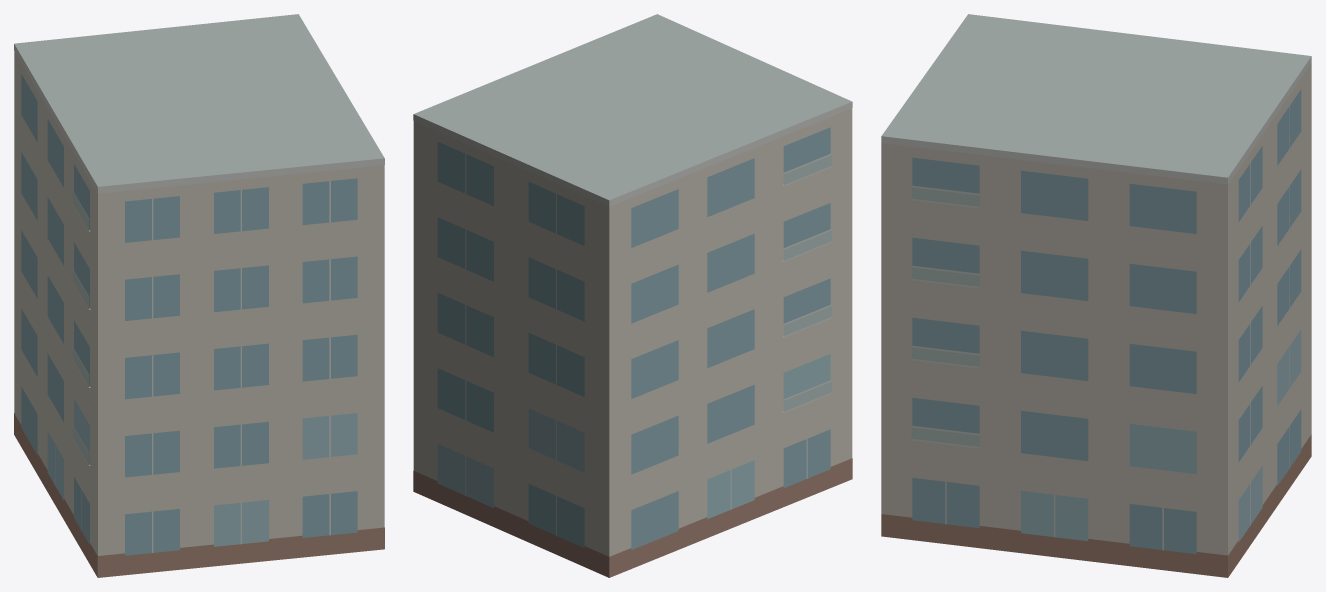
File: survey-upis-32875051.glb
The picture shows the model from 3 angles, left to right: view 1: azimuth 30°, elevation 25°; view 2: azimuth 150°, elevation 25°; view 3: azimuth 270°, elevation 25°; orthographic projection. The views are drawn at different scales.
Visible parts, largest first — view 1: survey-upis-32875051.tmp; view 2: survey-upis-32875051.tmp; view 3: survey-upis-32875051.tmp.
Part boxes in pixels (<box>): survey-upis-32875051.tmp: <box>14,14,384,577</box>; survey-upis-32875051.tmp: <box>413,14,852,577</box>; survey-upis-32875051.tmp: <box>881,14,1311,577</box>.
Bounding box in the file's own units: 12.47 × 14.2 × 13.85.
